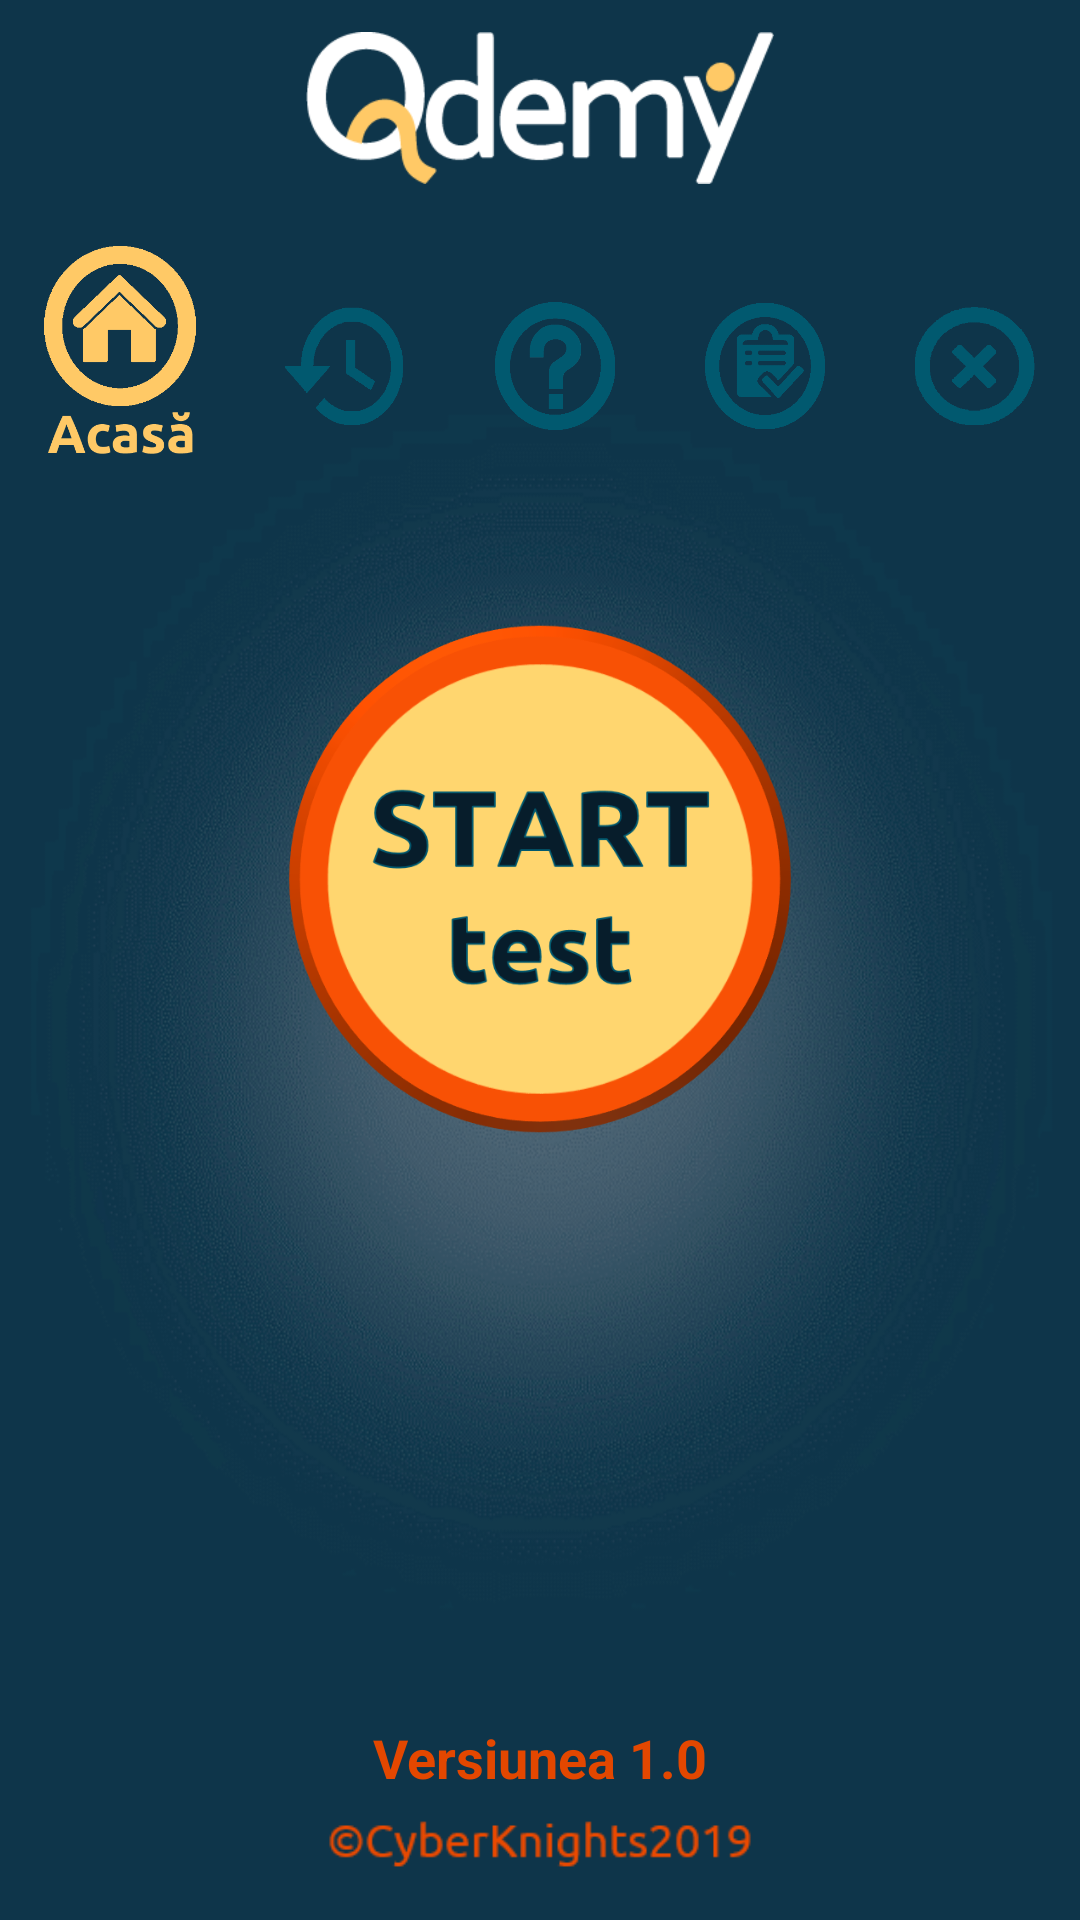

Named icons in this screenshot (1080px x 1920px) and their centers, (x,y):
deconectare: (974,366)
intrebarix: (555,366)
istoricx: (344,366)
testex: (765,366)
